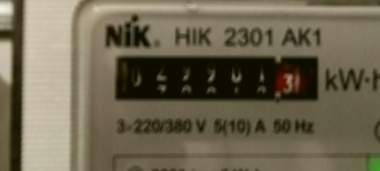0: (227, 58, 241, 83), (126, 65, 142, 86)
1: (252, 59, 265, 83)
2: (151, 62, 167, 81)
3: (279, 71, 292, 93)
9: (202, 60, 216, 82), (177, 60, 189, 82)
screen: (100, 45, 327, 110)
